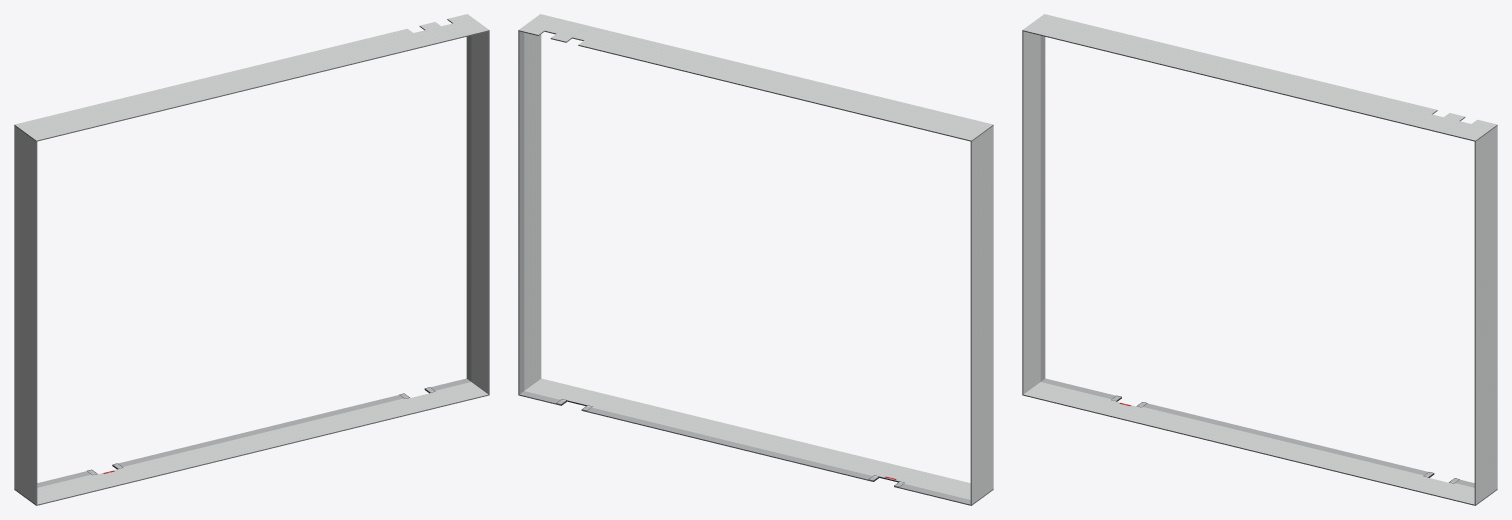
The model's file is walls.gltf.
3 views of the same model, side by side, from view 1: azimuth 30°, elevation 25°; view 2: azimuth 150°, elevation 25°; view 3: azimuth 330°, elevation 25° (orthographic).
Visible parts, largest first — view 1: walls; view 2: walls; view 3: walls.
Boxes of the visible parts, bbox=[...] form: walls: bbox=[14, 14, 489, 505]; walls: bbox=[518, 14, 993, 505]; walls: bbox=[1022, 14, 1497, 505].
Size of the model in its own units: 131 by 101 by 11.
7 materials, 4 textured.
